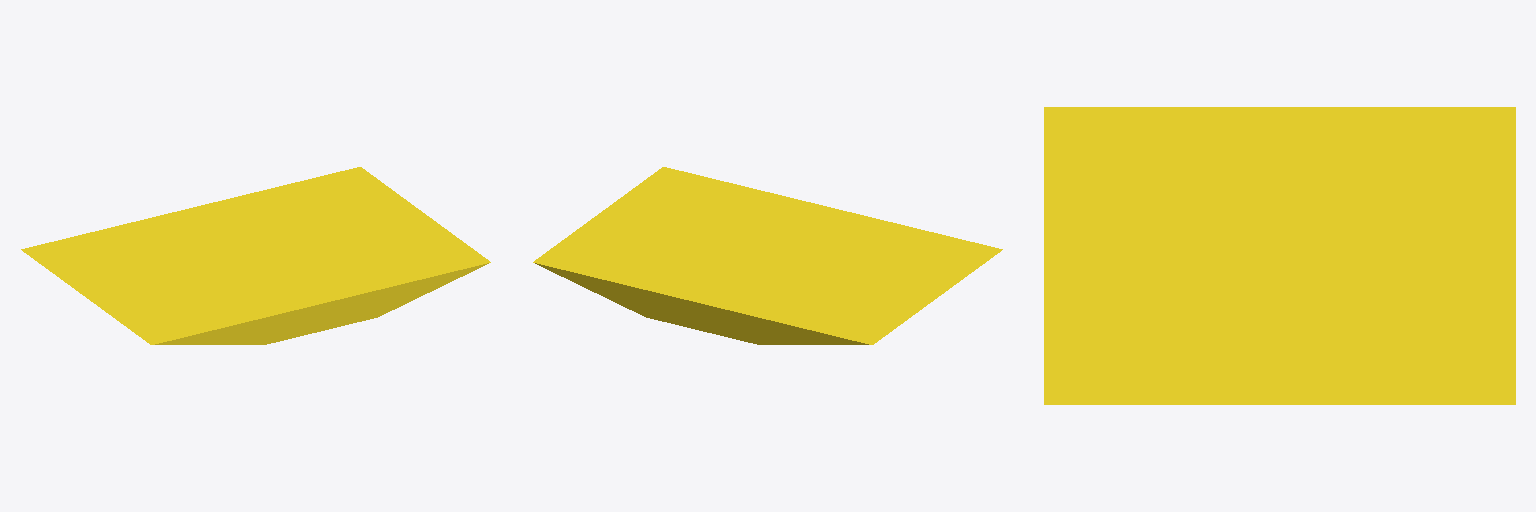
robot.urdf — wedge_13.SLDPRT:
<?xml version="1.0" encoding="utf-8"?>
<!-- This URDF was automatically created by SolidWorks to URDF Exporter! Originally created by [author] ([email redacted]) 
     Commit Version: 1.5.1-0-g916b5db  Build Version: 1.5.7152.31018
     For more information, please see http://wiki.ros.org/sw_urdf_exporter -->
<robot
  name="wedge_13.SLDPRT">
  <link
    name="wedge_13.SLDPRT">
    <inertial>
      <origin
        xyz="-4.5107E-17 1.17739777888252E-18 0.019229"
        rpy="0 0 0" />
      <mass
        value="922.99" />
      <inertia
        ixx="311.42"
        ixy="-3.4694E-14"
        ixz="-6.4384E-15"
        iyy="388.33"
        iyz="1.79579858495079E-14"
        izz="692.24" />
    </inertial>
    <visual>
      <origin
        xyz="0 0 0"
        rpy="1.5707963267949 0 0" />
      <geometry>
        <mesh
          filename="package://wedge_13.SLDPRT/meshes/wedge_13.SLDPRT.STL" />
      </geometry>
      <material
        name="">
        <color
          rgba="1 0.9 0.2 1" />
        <texture
          filename="package://wedge_13.SLDPRT/textures/" />
      </material>
    </visual>
    <collision>
      <origin
        xyz="0 0 0"
        rpy="1.5707963267949 0 0" />
      <geometry>
        <mesh
          filename="package://wedge_13.SLDPRT/meshes/wedge_13.SLDPRT.STL" />
      </geometry>
    </collision>
  </link>
</robot>

--- What the picture shows (computed from the rendered views, not written in the file) ---
The picture shows the robot from 3 angles, left to right: view 1: azimuth 30°, elevation 25°; view 2: azimuth 150°, elevation 25°; view 3: azimuth 270°, elevation 25°; orthographic projection.
Model wedge_13.SLDPRT with 1 links and 0 joints (none), rooted at wedge_13.SLDPRT, posed all joints at 0.
Visible links, largest first — view 1: wedge_13.SLDPRT; view 2: wedge_13.SLDPRT; view 3: wedge_13.SLDPRT.
Boxes of the visible links, x1,y1,x2,y2 form: wedge_13.SLDPRT: (21, 167, 490, 344); wedge_13.SLDPRT: (533, 167, 1002, 344); wedge_13.SLDPRT: (1044, 107, 1515, 404).
Bounding box of the posed robot: 3 × 2 × 0.2307 m (x, y, z).
Meshes: 1 distinct files referenced, 1 mesh visuals loaded (1 binary STL).